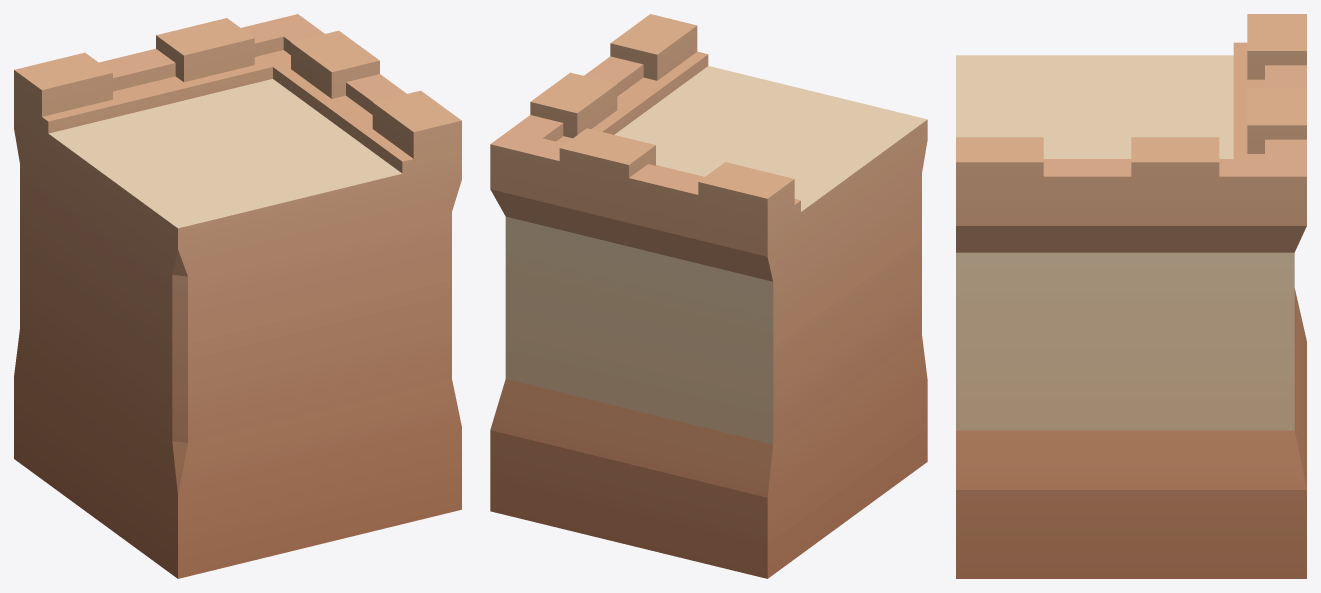
File: wall-corner-half.glb
3 views of the same model, side by side, from view 1: azimuth 30°, elevation 25°; view 2: azimuth 150°, elevation 25°; view 3: azimuth 270°, elevation 25° (orthographic). The views are drawn at different scales.
Parts seen in each view (by area): view 1: wall-corner-half; view 2: wall-corner-half; view 3: wall-corner-half.
Boxes of the visible parts, left/top/right/bottom form: wall-corner-half: left=14, top=14, right=461, bottom=578; wall-corner-half: left=490, top=14, right=927, bottom=578; wall-corner-half: left=956, top=14, right=1306, bottom=578.
Size of the model in its own units: 1 by 1.31 by 1.
Materials: 1 (1 with a texture image).
